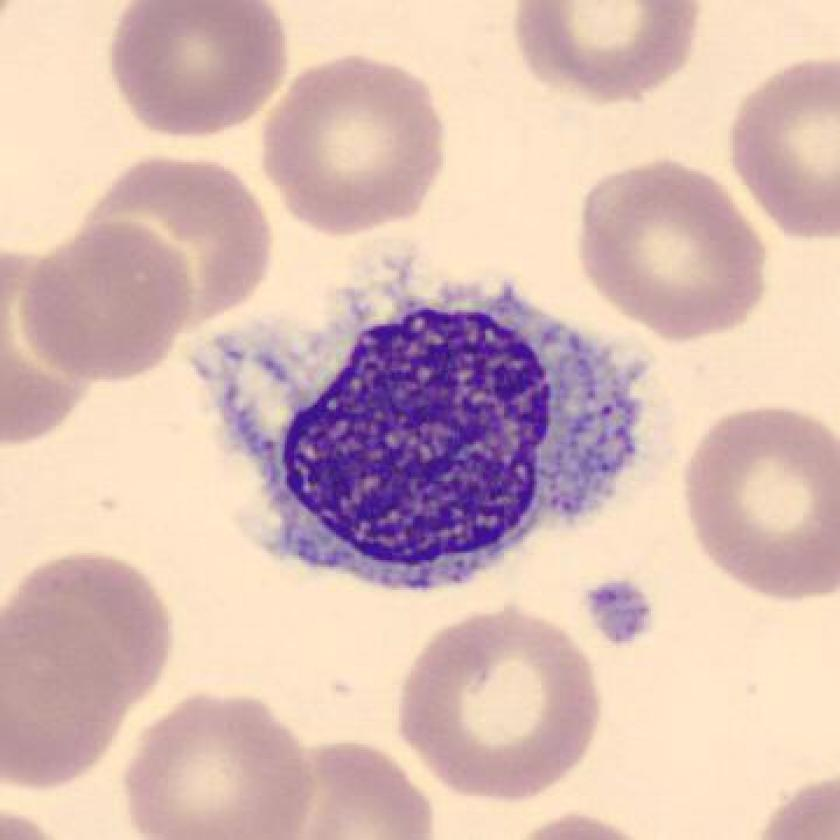monocyte: (167, 249, 675, 614)
